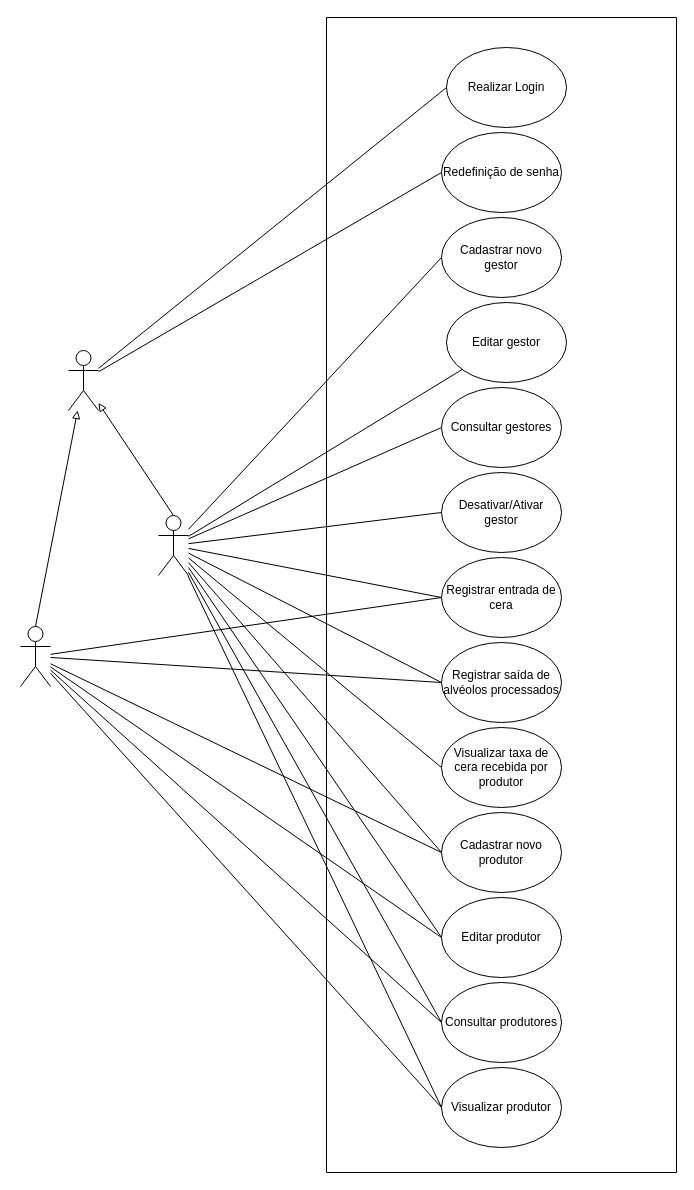
The diagram is 694 pixels wide and 1190 high, and some of its shapes have lost their labels. Here are the shapes that lost their labels. From the top down, the box of each, then its label:
(68, 350, 98, 410): Usuário
(158, 514, 188, 576): Organização
(20, 626, 50, 686): Gestor
